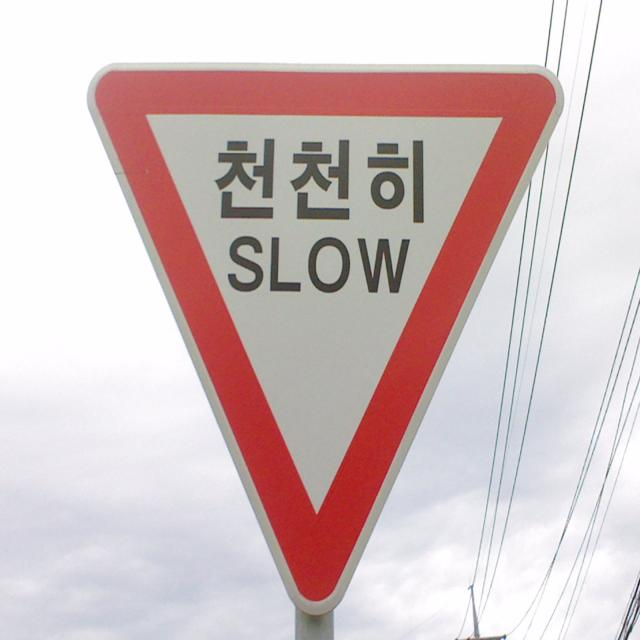regulatory_Drive_slowly: (79, 46, 571, 635)
